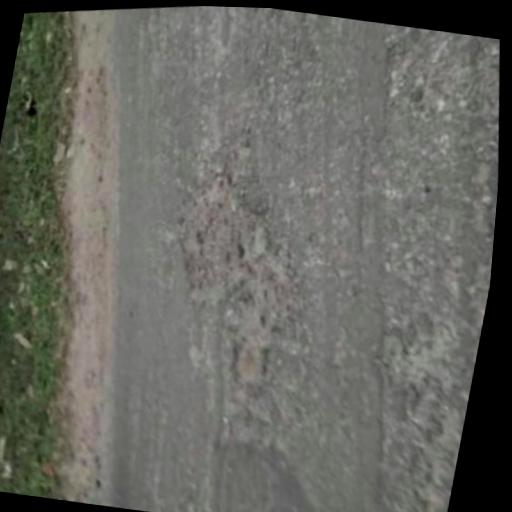pothole: (143, 160, 428, 436)
